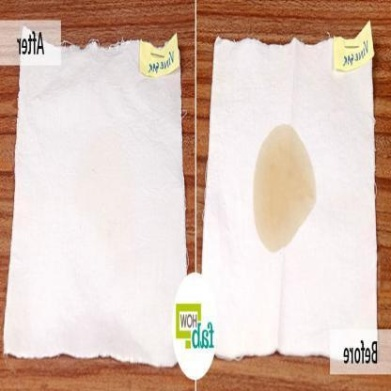coffee: (256, 134, 309, 227)
